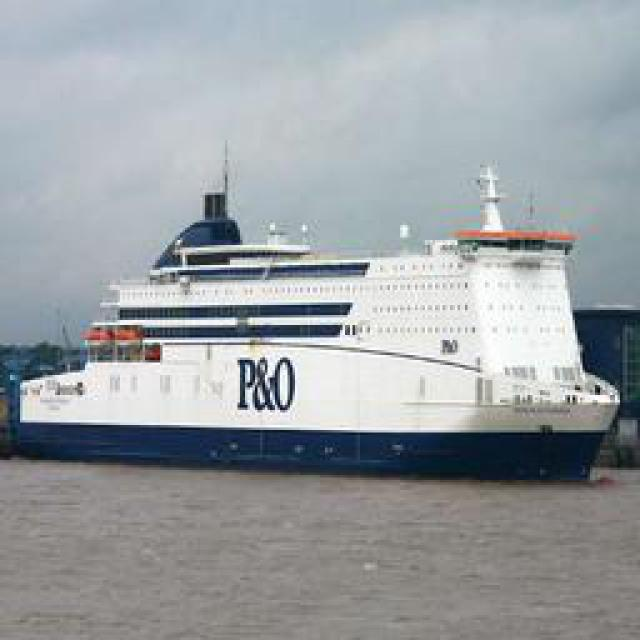Ship: (20, 134, 623, 477)
